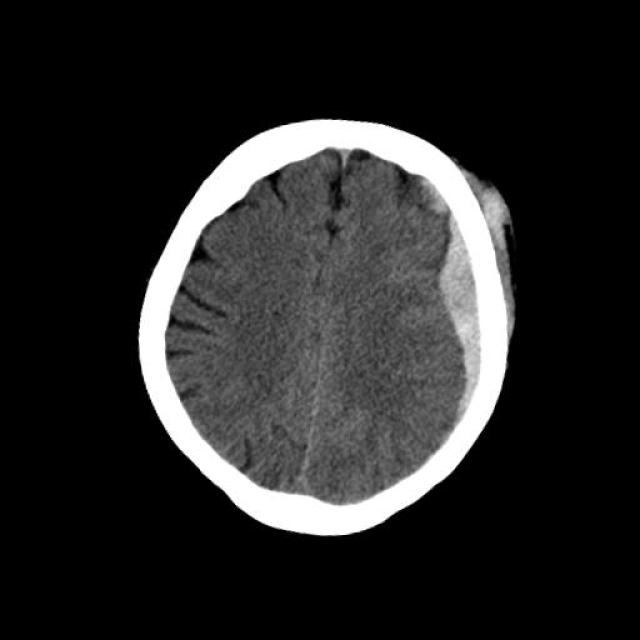Subdural: (400, 147, 538, 438)
